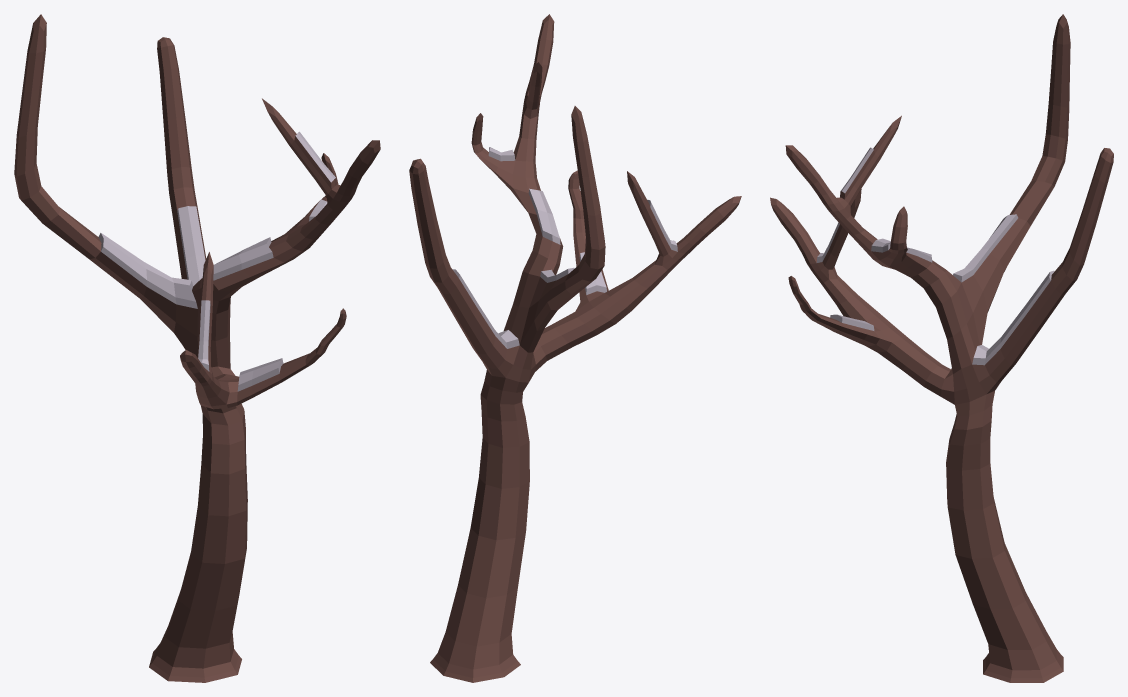
File: CommonTree_Dead_Snow_5.glb
The picture shows the model from 3 angles, left to right: view 1: azimuth 30°, elevation 25°; view 2: azimuth 150°, elevation 25°; view 3: azimuth 270°, elevation 25°; orthographic projection. The views are drawn at different scales.
Parts seen in each view (by area): view 1: CommonTree_Dead_Snow_5; view 2: CommonTree_Dead_Snow_5; view 3: CommonTree_Dead_Snow_5.
Part boxes in pixels (x1=…): CommonTree_Dead_Snow_5: x1=14, y1=14, x2=380, y2=682; CommonTree_Dead_Snow_5: x1=409, y1=14, x2=741, y2=682; CommonTree_Dead_Snow_5: x1=770, y1=14, x2=1113, y2=682.
Bounding box in the file's own units: 0.8444 × 2.3 × 1.2.
